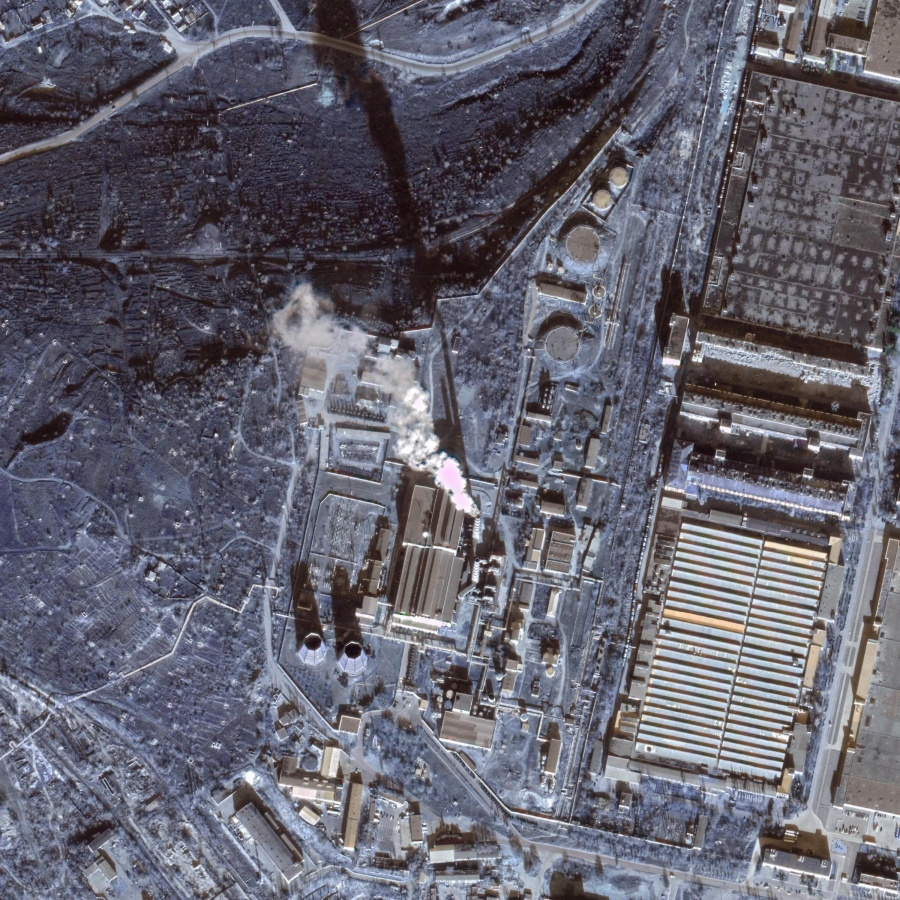PowerPlant: (284, 426, 507, 687)
